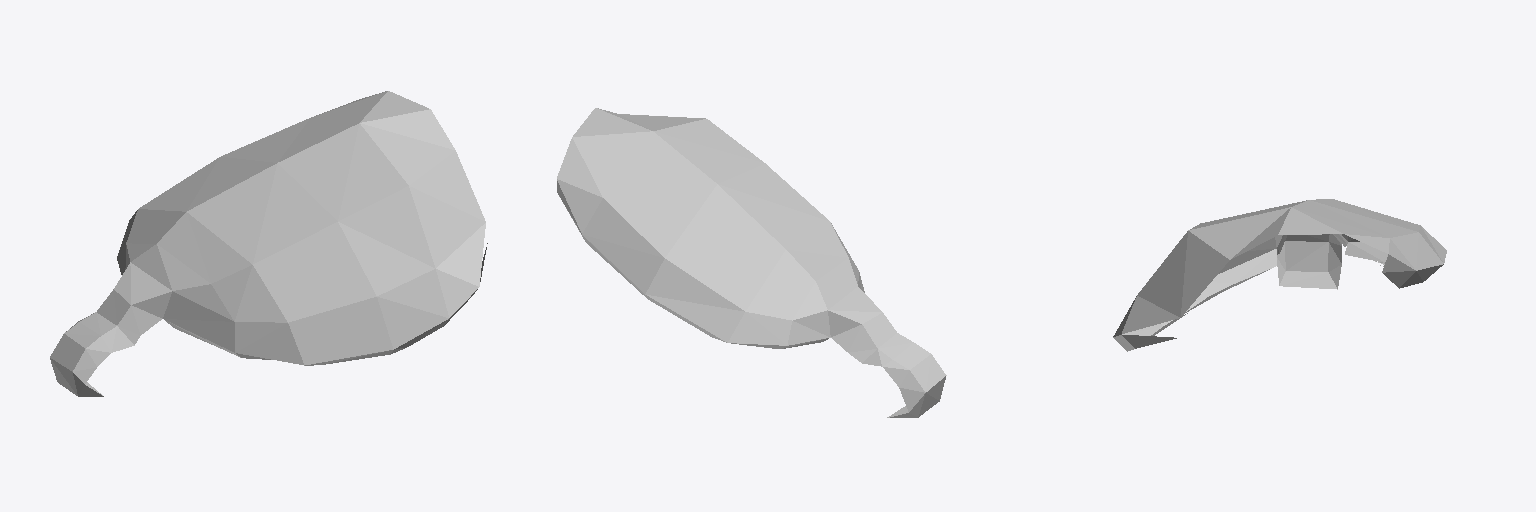
Rendered from hg_armplate.obj.
3 renders of one model, left to right at view 1: azimuth 30°, elevation 25°; view 2: azimuth 150°, elevation 25°; view 3: azimuth 270°, elevation 25°, orthographic.
Visible parts, largest first — view 1: studio.helghast_assault_medium.smd.mesh_0.008; view 2: studio.helghast_assault_medium.smd.mesh_0.008; view 3: studio.helghast_assault_medium.smd.mesh_0.008.
Part boxes in pixels (x1,y1,x2,y2): studio.helghast_assault_medium.smd.mesh_0.008: (50,91,487,396); studio.helghast_assault_medium.smd.mesh_0.008: (557,108,946,417); studio.helghast_assault_medium.smd.mesh_0.008: (1113,199,1446,351).
Bounding box in the file's own units: 8.54 × 4.72 × 6.79.